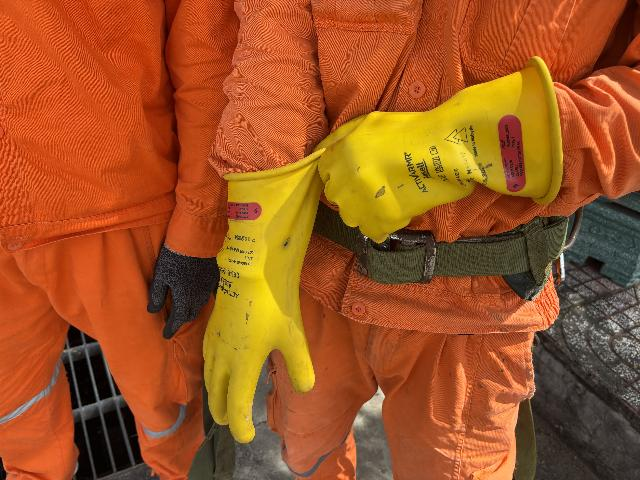gloves: (310, 81, 566, 250), (201, 156, 318, 440), (139, 188, 221, 342)
